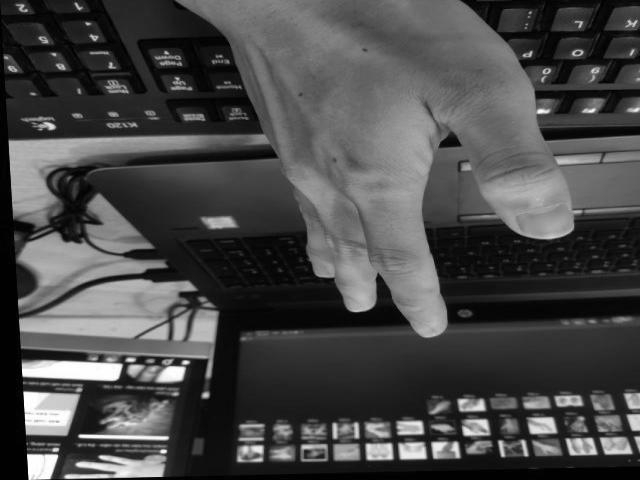not-gloved: (202, 0, 573, 338)
